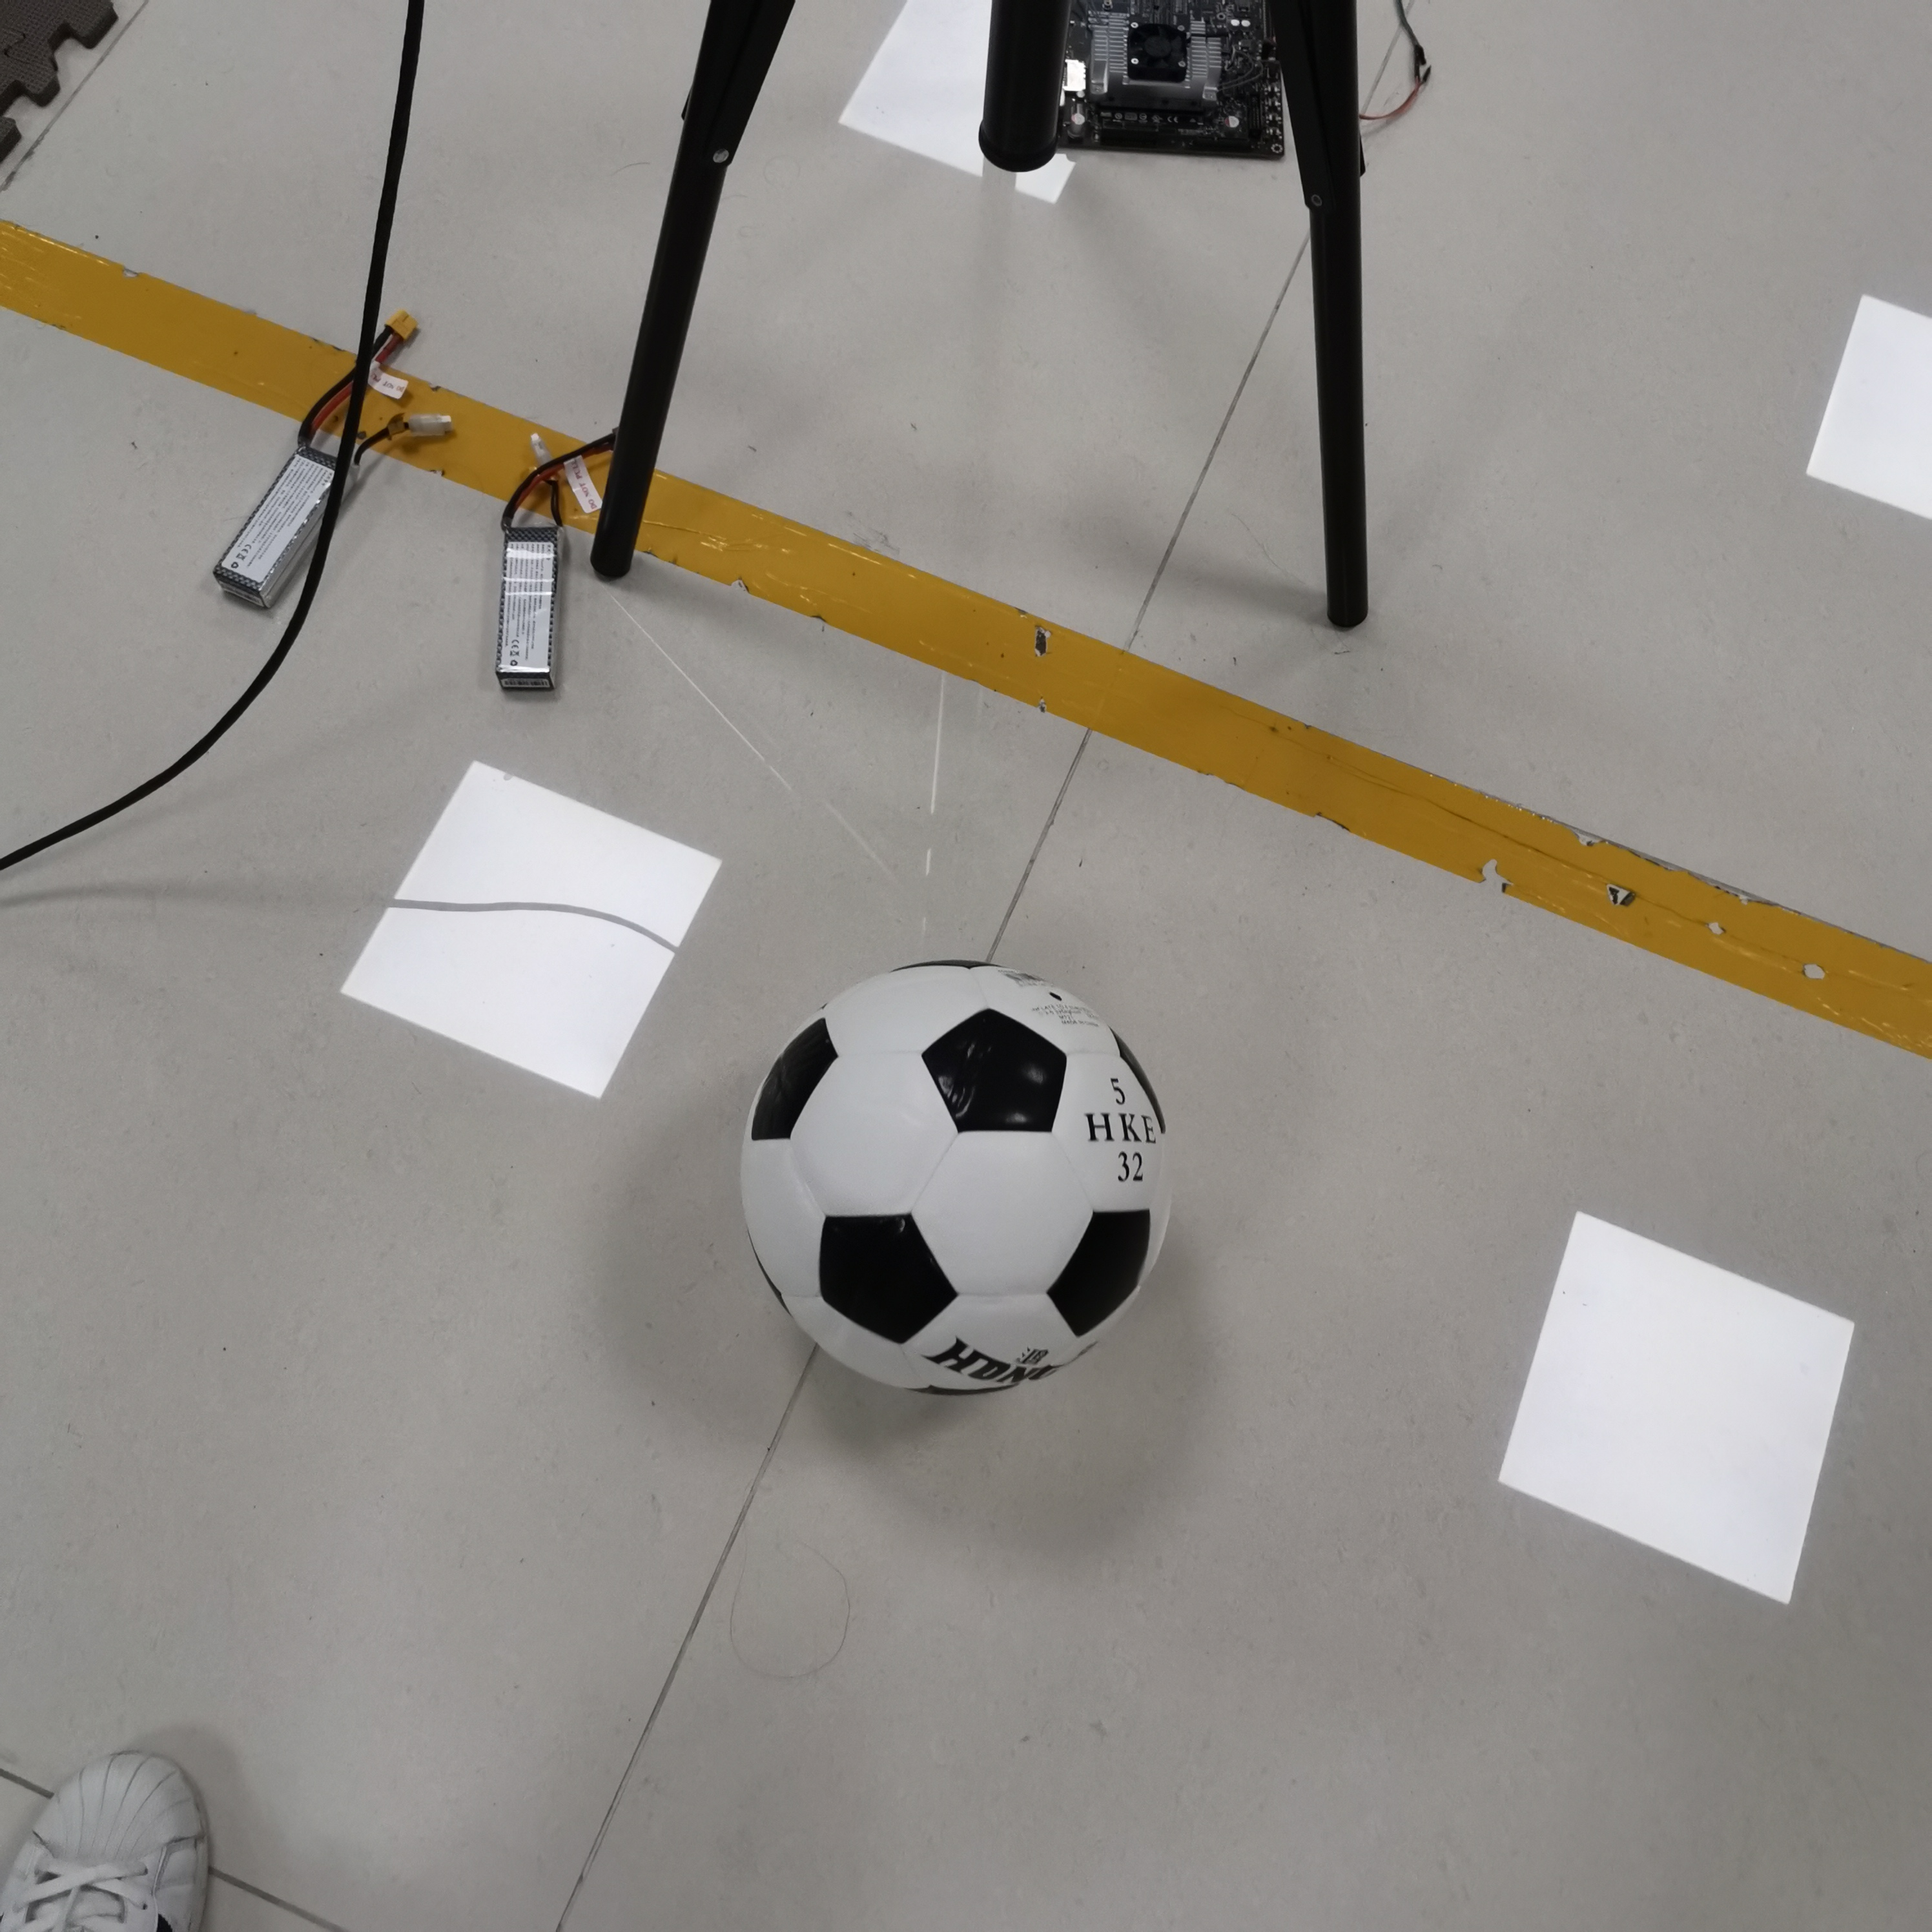football: (740, 962, 1177, 1401)
